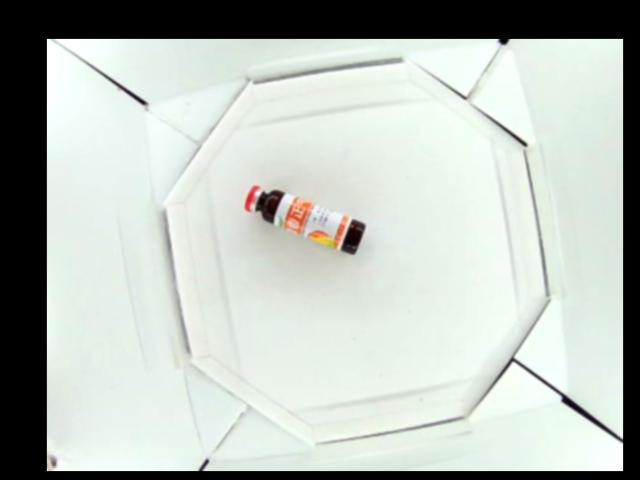Medicine: (243, 182, 367, 255)
